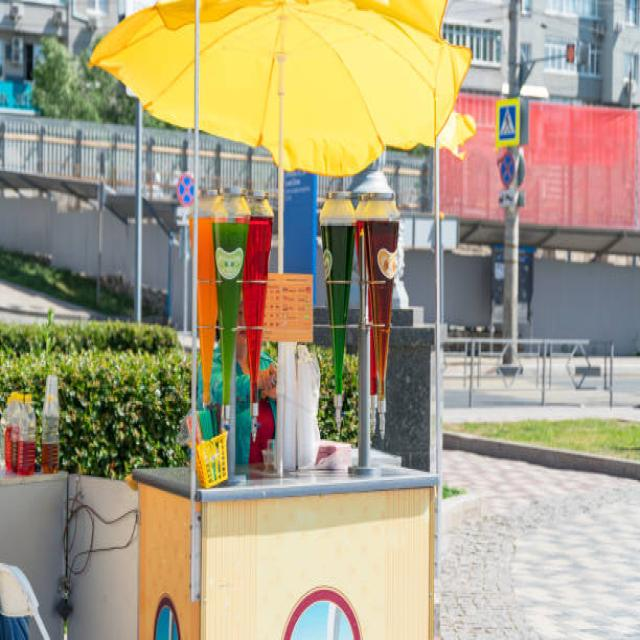Emperan: (80, 0, 477, 640)
